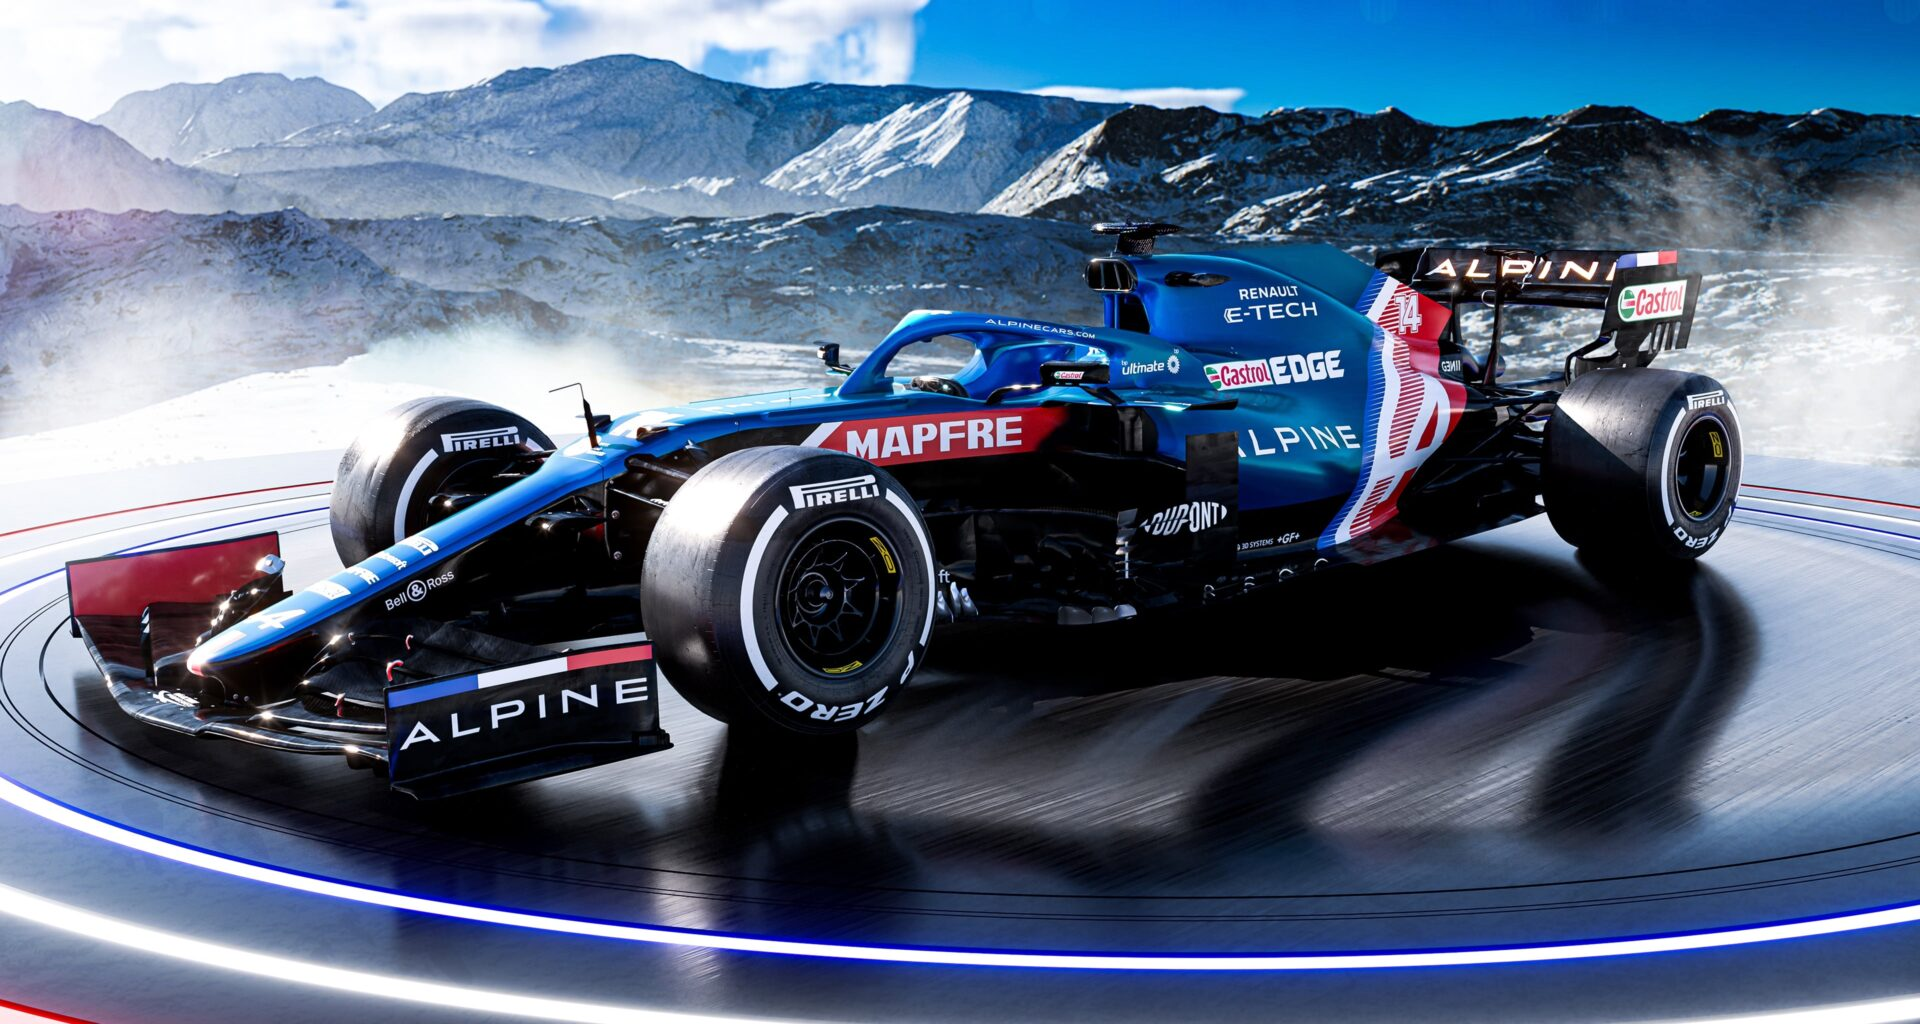Formule 1: (61, 245, 1743, 804)
